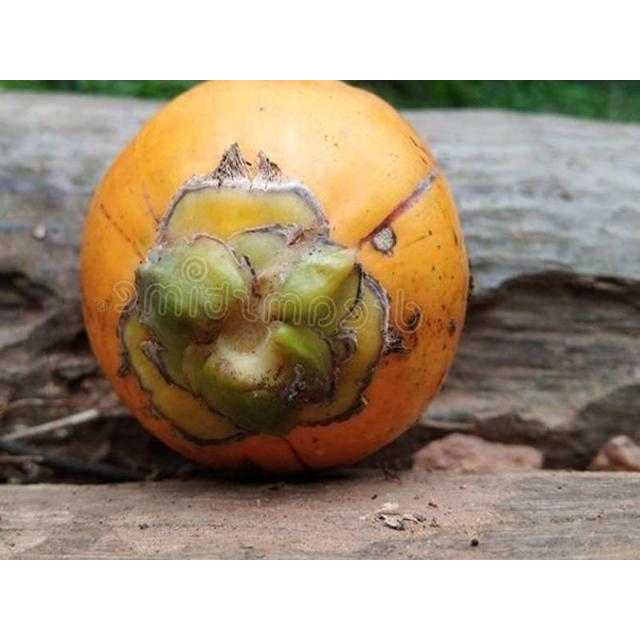good: (79, 80, 471, 479)
